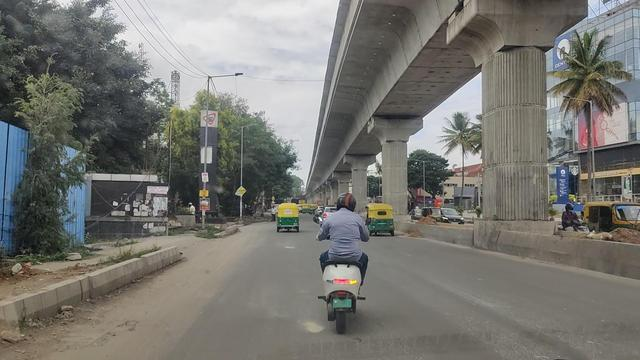LMV: (312, 187, 371, 339), (368, 202, 396, 238), (275, 203, 302, 232)
